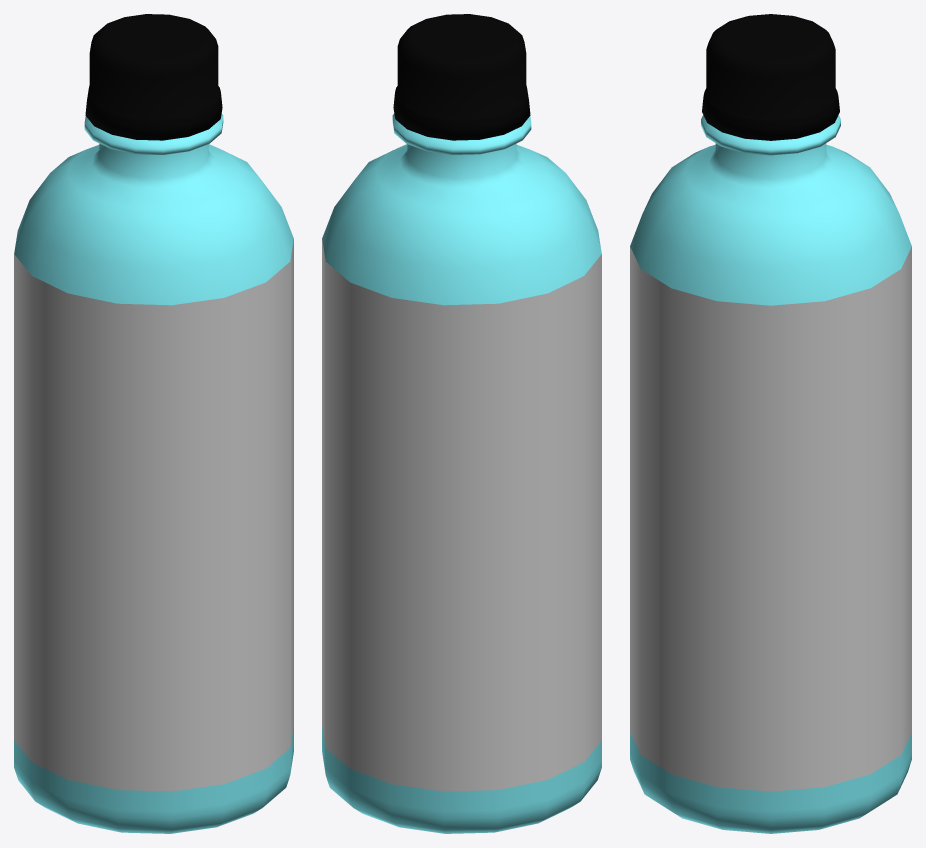
Rendered from bottleBullet.glb.
3 renders of one model, left to right at view 1: azimuth 30°, elevation 25°; view 2: azimuth 150°, elevation 25°; view 3: azimuth 270°, elevation 25°, orthographic.
Parts seen in each view (by area): view 1: bottleLabel, bottleBody, bottleCap; view 2: bottleLabel, bottleBody, bottleCap; view 3: bottleLabel, bottleBody, bottleCap.
Boxes of the visible parts, x1=… form: bottleLabel: x1=14, y1=239, x2=293, y2=791; bottleBody: x1=14, y1=113, x2=293, y2=833; bottleCap: x1=85, y1=14, x2=222, y2=140; bottleLabel: x1=322, y1=239, x2=601, y2=791; bottleBody: x1=322, y1=113, x2=601, y2=833; bottleCap: x1=393, y1=14, x2=530, y2=140; bottleLabel: x1=630, y1=246, x2=911, y2=791; bottleBody: x1=630, y1=115, x2=911, y2=833; bottleCap: x1=702, y1=14, x2=839, y2=140.
Bounding box in the file's own units: 1.31 × 3.81 × 1.31.
